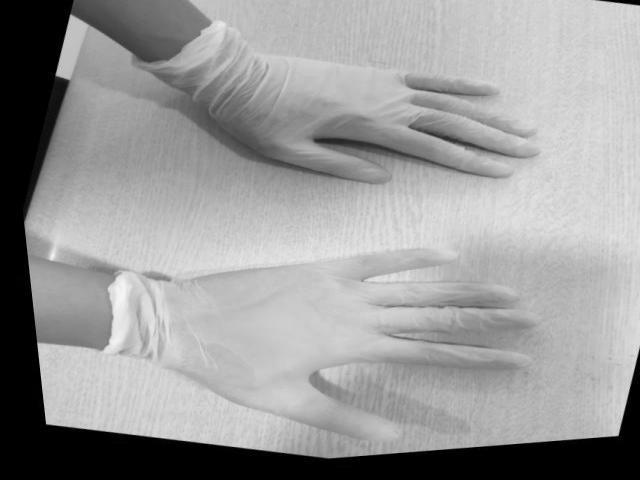gloved: (173, 246, 540, 443), (246, 54, 540, 188)
